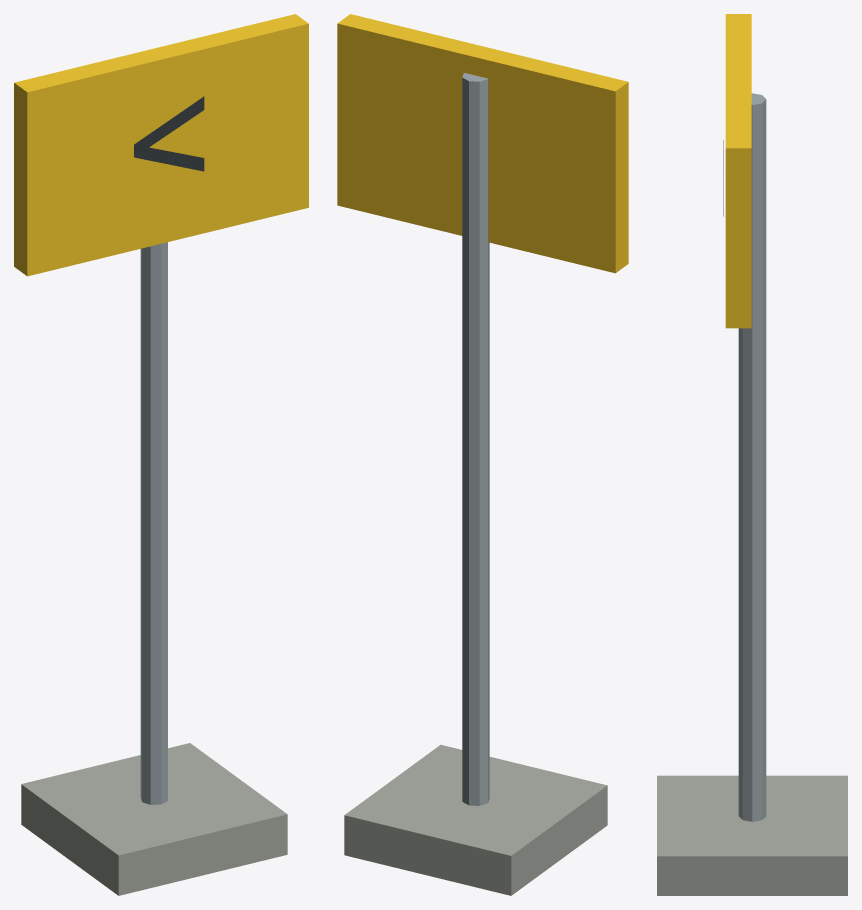
The model's file is TR3_Sign_ArrowLeft.glb.
The picture shows the model from 3 angles, left to right: view 1: azimuth 30°, elevation 25°; view 2: azimuth 150°, elevation 25°; view 3: azimuth 270°, elevation 25°; orthographic projection. The views are drawn at different scales.
Visible parts, largest first — view 1: TR3_Sign_ArrowLeft; view 2: TR3_Sign_ArrowLeft; view 3: TR3_Sign_ArrowLeft.
Boxes of the visible parts, box(x1,y1,x2,y2) form: TR3_Sign_ArrowLeft: box(14, 14, 308, 895); TR3_Sign_ArrowLeft: box(337, 14, 628, 895); TR3_Sign_ArrowLeft: box(657, 14, 847, 895).
Bounding box in the file's own units: 0.8 × 2.15 × 0.48.
